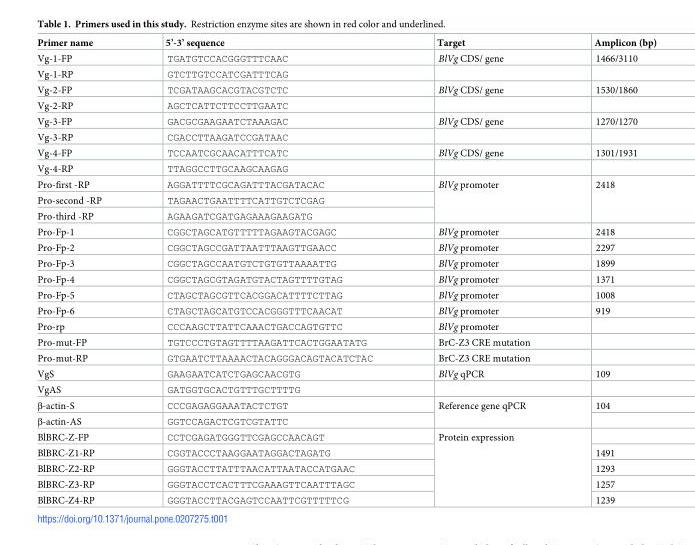table: (36, 37, 656, 505)
table column: (132, 37, 404, 505), (404, 37, 561, 505), (36, 37, 132, 505), (561, 37, 656, 505)
table column header: (36, 37, 656, 49)
table row: (36, 49, 656, 66), (36, 112, 656, 129), (36, 175, 656, 192), (36, 81, 656, 97), (36, 144, 656, 160), (36, 207, 656, 223), (36, 223, 656, 239), (36, 239, 656, 255), (36, 270, 656, 286), (36, 286, 656, 302), (36, 302, 656, 318), (36, 318, 656, 334), (36, 349, 656, 365), (36, 365, 656, 381), (36, 381, 656, 397), (36, 412, 656, 428), (36, 428, 656, 444), (36, 444, 656, 460), (36, 460, 656, 476), (36, 476, 656, 492), (36, 66, 656, 81), (36, 97, 656, 112), (36, 129, 656, 144), (36, 160, 656, 175), (36, 192, 656, 207), (36, 255, 656, 270), (36, 334, 656, 349), (36, 397, 656, 412), (36, 492, 656, 505), (36, 37, 656, 49)
table spanning cell: (404, 428, 561, 505), (404, 175, 561, 223), (404, 397, 561, 428), (561, 175, 656, 223)
